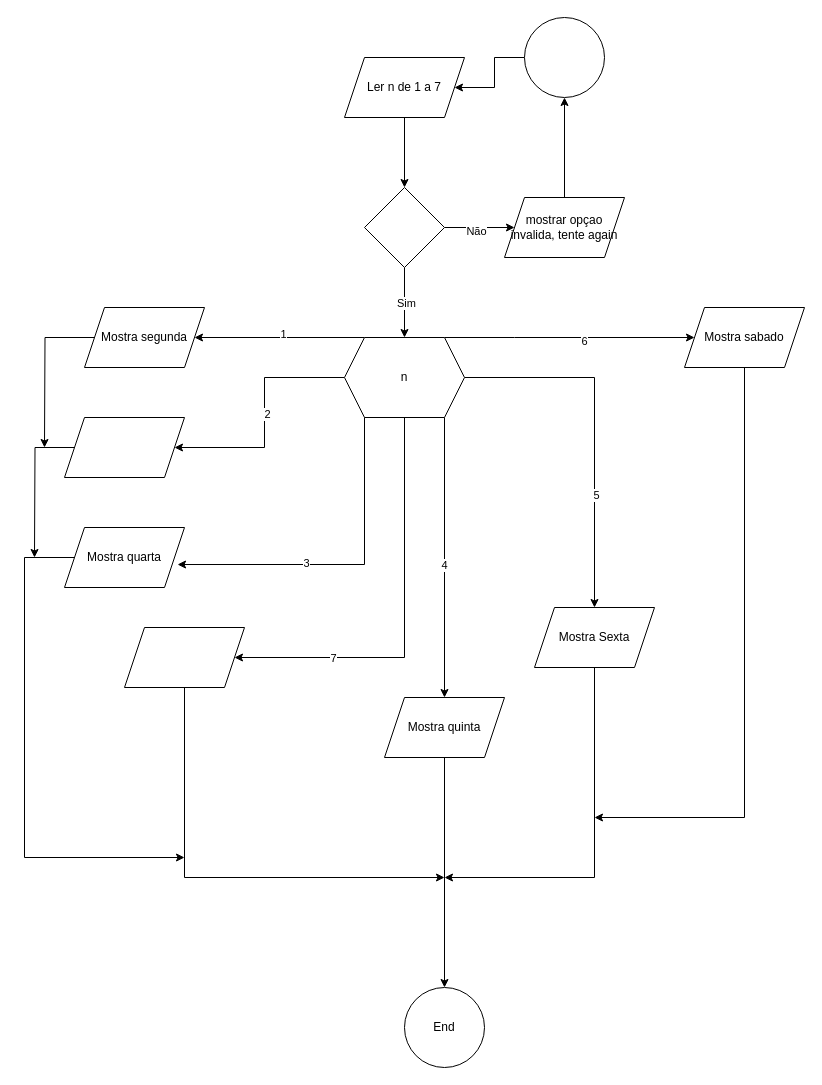
Image size: 822x1085. Some labels were removed from this diagram. Each missing label, with the centre of its shape:
"Inicio" belongs at point (564, 57).
"Mostra Domingo" belongs at point (184, 657).
"Mostra terça" belongs at point (124, 447).
"n >= 1 e n <= 7" belongs at point (404, 227).
